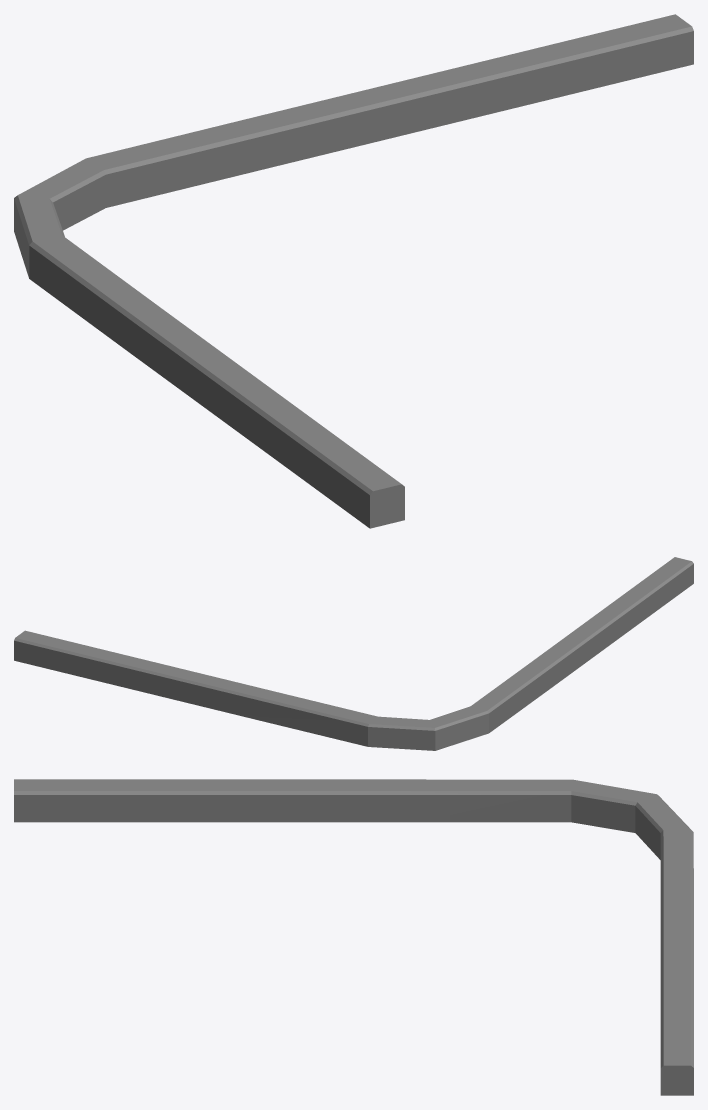
The model's file is RoadPart_06.fbx.
The picture shows the model from 3 angles, top to bottom: view 1: azimuth 30°, elevation 25°; view 2: azimuth 150°, elevation 25°; view 3: azimuth 270°, elevation 25°; orthographic projection. The views are drawn at different scales.
Visible parts, largest first — view 1: RoadPart_06; view 2: RoadPart_06; view 3: RoadPart_06.
Boxes of the visible parts, x1,y1,x2,y2 form: RoadPart_06: (14,14,693,528); RoadPart_06: (14,557,693,750); RoadPart_06: (14,779,693,1095).
Bounding box in the file's own units: 308 × 15 × 308.
